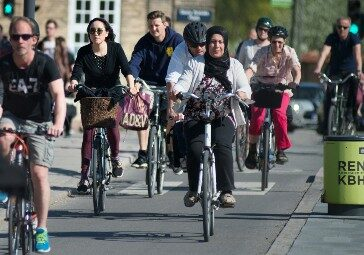commuter: (171, 26, 248, 242), (1, 16, 69, 255), (66, 17, 138, 213), (127, 11, 185, 196), (246, 26, 303, 190)
